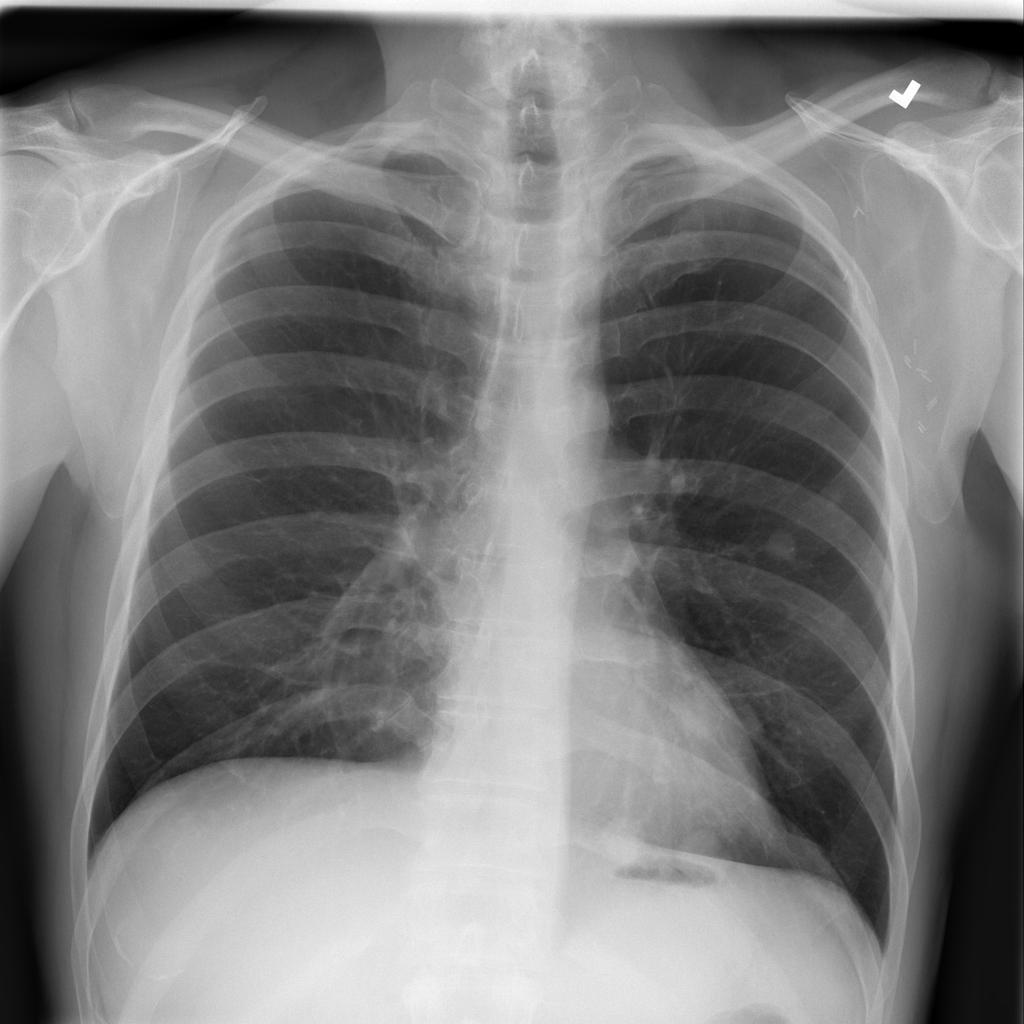nodule: (649, 661, 762, 775), (584, 803, 662, 878), (665, 812, 741, 884), (749, 510, 818, 581), (803, 471, 854, 524)
